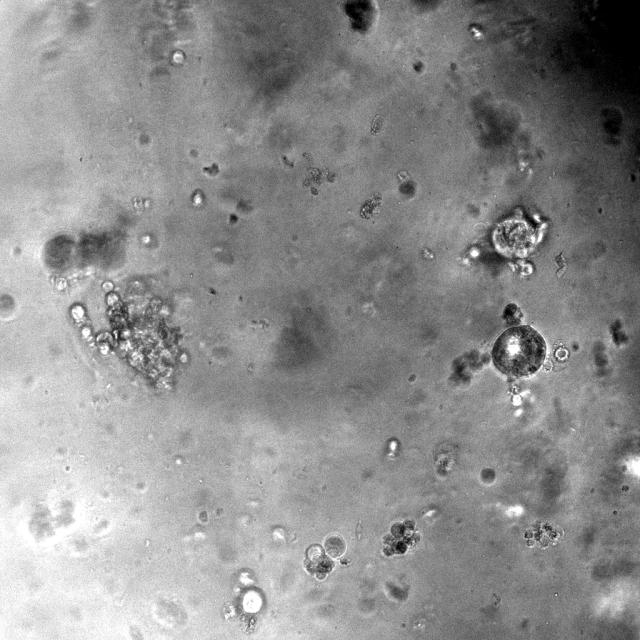organoid: (69, 281, 188, 389), (451, 302, 569, 406), (461, 205, 548, 279), (43, 225, 126, 274), (221, 568, 267, 632), (304, 533, 350, 580), (382, 519, 419, 557), (343, 0, 377, 34), (524, 520, 563, 548), (610, 319, 628, 346), (480, 467, 496, 485)
